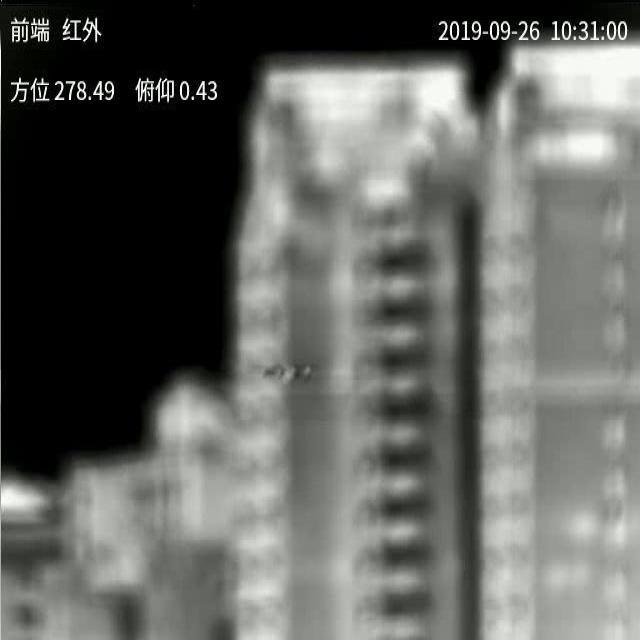drone: (263, 366, 311, 379)
